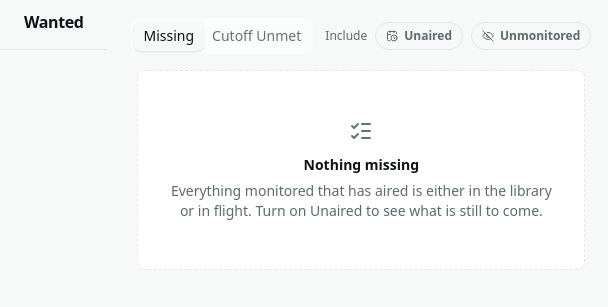
Scenario: shows each tab's empty state when nothing is missing and the scan is exhausted
Expected: the heading "Nothing missing" is shown, [304, 155, 419, 175]
Expected: the text "Everything monitored that has aired is either in the library or in flight. Turn on Unaired to see what is still to come." is shown, [171, 181, 552, 220]
Click the tab "Cutoff Unmet" at (257, 36), box [203, 22, 310, 50]
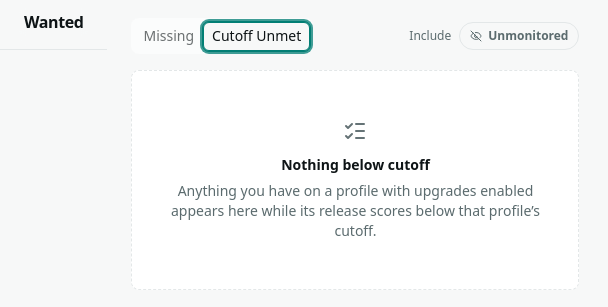
Result: the heading "Nothing below cutoff" is shown at [281, 155, 430, 175]
